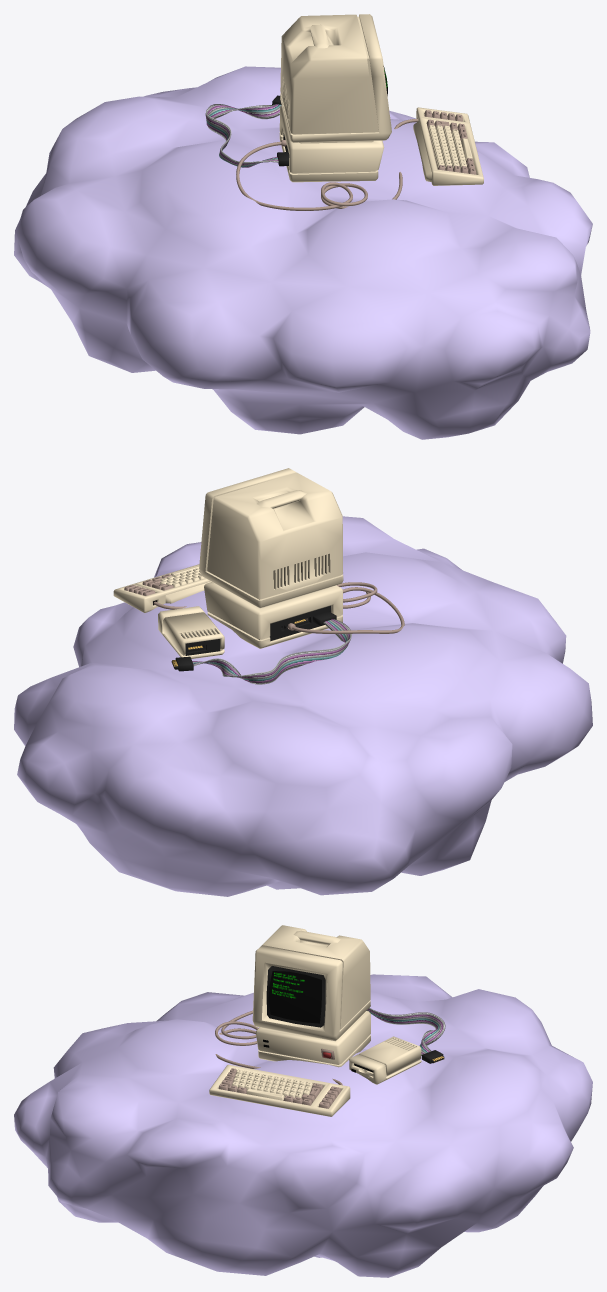
File: computer-coloured-xKnXq1ZZ.glb
3 renders of one model, top to bottom at view 1: azimuth 30°, elevation 25°; view 2: azimuth 150°, elevation 25°; view 3: azimuth 270°, elevation 25°, orthographic. The views are drawn at different scales.
Parts seen in each view (by area): view 1: Object_3, computer, keyboard, keyboard-keys, ribbon, BezierCurve; view 2: Object_3, computer, floppy drive, ribbon, keyboard, BezierCurve, keyboard-keys; view 3: Object_3, computer, keyboard-keys, floppy drive, keyboard, ribbon, BezierCurve.
Boxes of the visible parts, x1,y1,x2,y2 form: Object_3: (14,66,592,439); computer: (279,14,391,182); keyboard: (413,107,483,185); keyboard-keys: (424,110,476,174); ribbon: (205,104,281,167); BezierCurve: (236,118,417,210); Object_3: (14,516,592,896); computer: (199,468,343,648); floppy drive: (158,606,224,658); ribbon: (192,619,351,684); keyboard: (113,564,211,612); BezierCurve: (153,582,404,633); keyboard-keys: (124,565,204,595); Object_3: (14,974,592,1277); computer: (252,925,370,1067); keyboard-keys: (218,1068,341,1108); floppy drive: (349,1036,421,1084); keyboard: (209,1064,350,1116); ribbon: (366,1007,445,1055); BezierCurve: (215,1010,342,1085).
Bounding box in the file's own units: 5.57 × 4.23 × 7.02.
10 materials, 9 textured.
